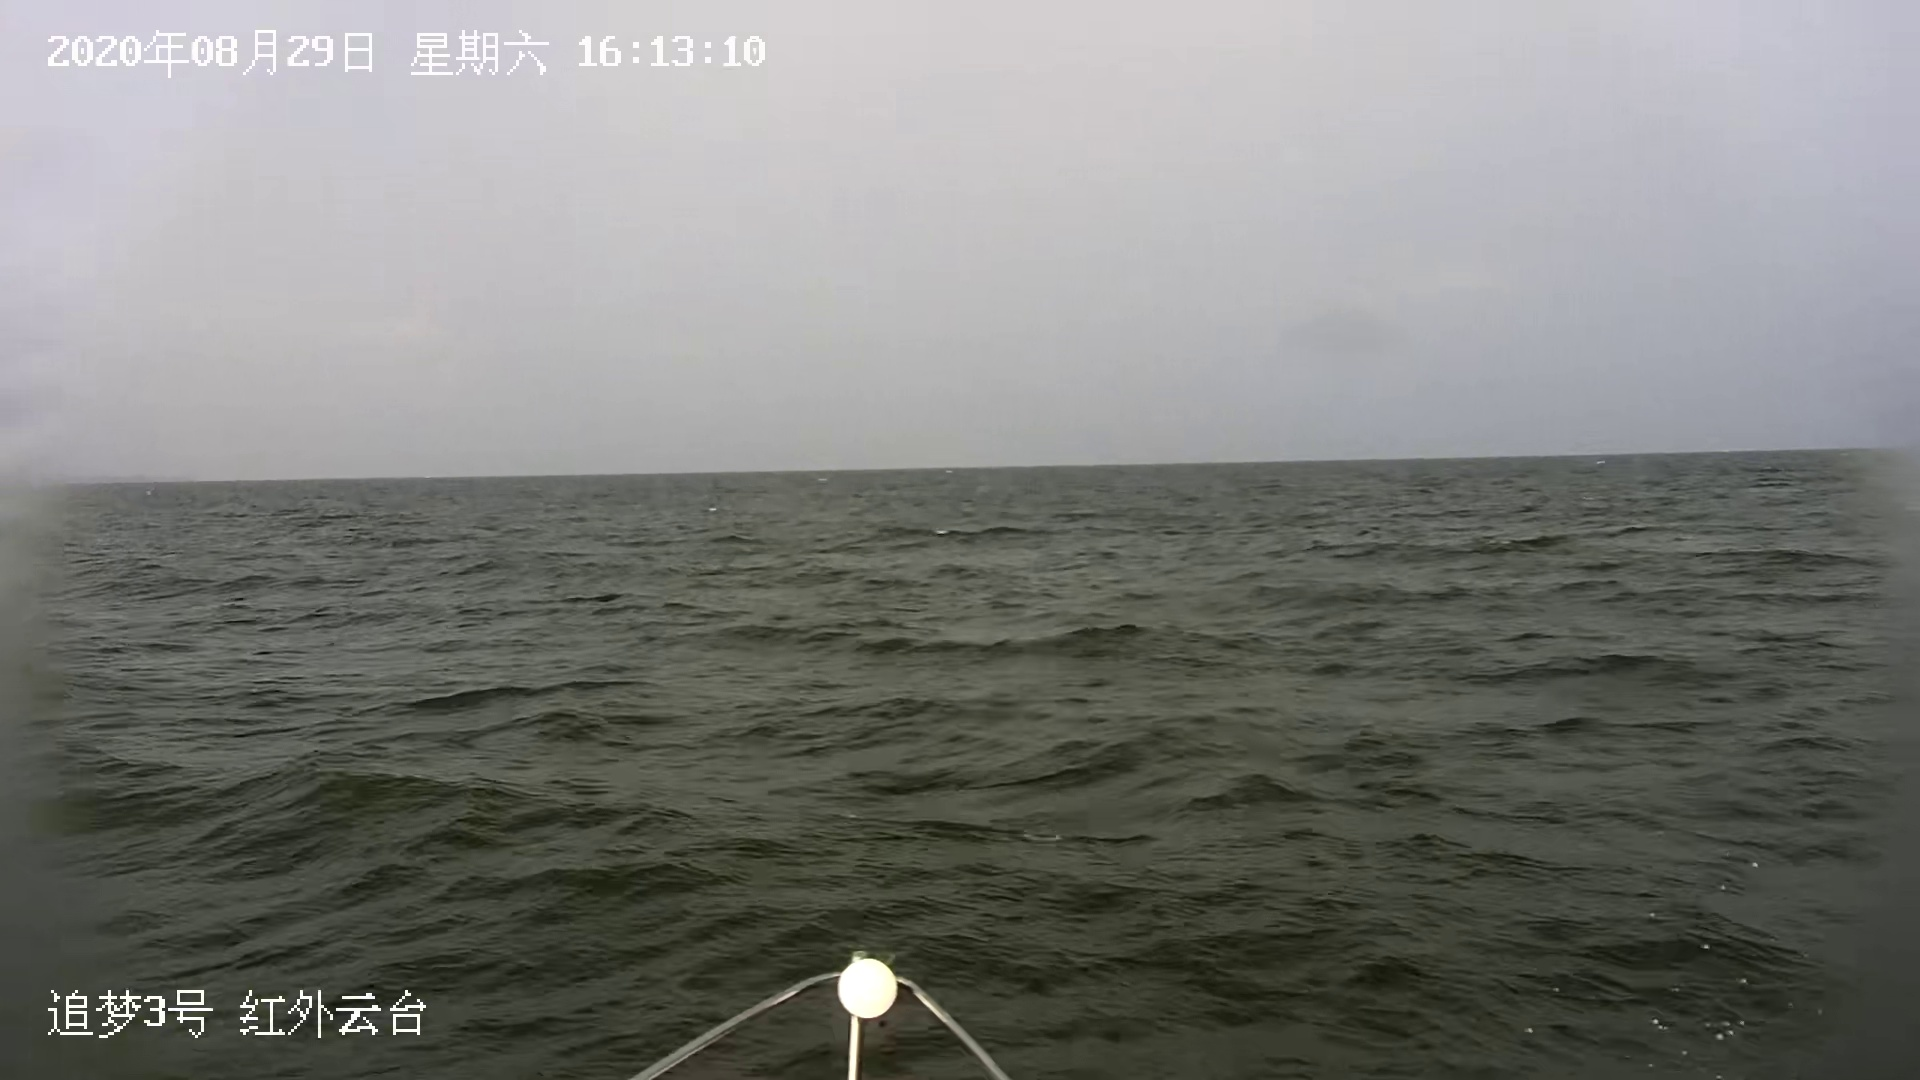this: (622, 951, 1022, 1079)
